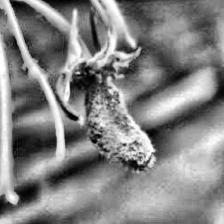Gray Mold: (70, 32, 156, 172)
